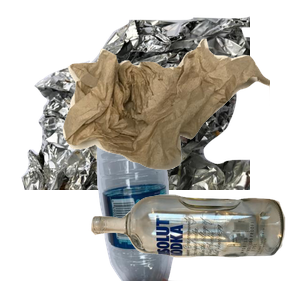glass: (88, 192, 300, 300)
metal: (19, 14, 259, 194)
plastic: (94, 120, 267, 300)
trash: (60, 36, 300, 198)
